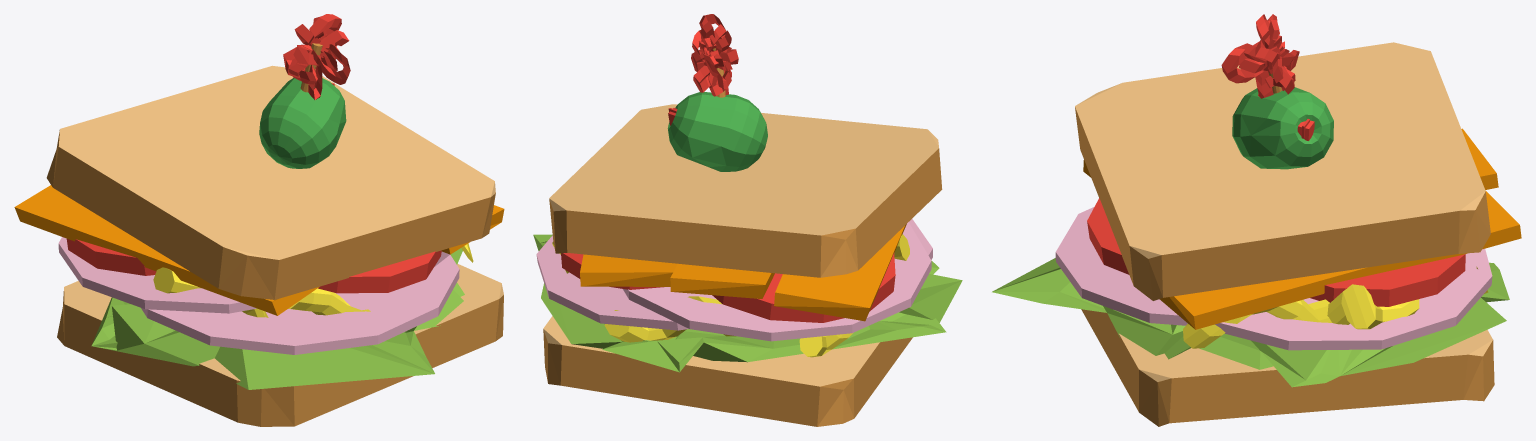
Rendered from Sandwich.obj.
3 renders of one model, left to right at view 1: azimuth 30°, elevation 25°; view 2: azimuth 150°, elevation 25°; view 3: azimuth 270°, elevation 25°, orthographic. The views are drawn at different scales.
Visible parts, largest first — view 1: group996315631, group493156083, group1652087668, group789604699, group2144504536, group163460802, group1245344889, group1219547458, group2115907108, group339363366, group1537758740, group962325714 (+2 smaller); view 2: group996315631, group493156083, group1652087668, group1245344889, group163460802, group2144504536, group2046653683, group1490762755, group1206853561, group2115907108, group339363366, group1634290142 (+2 smaller); view 3: group996315631, group493156083, group1652087668, group2046653683, group1206853561, group163460802, group789604699, group381778915, group1270557434, group2115907108, group1219547458, group799905980 (+2 smaller).
Part boxes in pixels (x1,y1,x2,y2): group996315631: [46, 65, 495, 299]; group493156083: [57, 264, 503, 426]; group1652087668: [91, 248, 464, 389]; group789604699: [141, 255, 459, 354]; group2144504536: [14, 185, 319, 315]; group163460802: [259, 78, 346, 168]; group1245344889: [58, 237, 256, 313]; group1219547458: [318, 250, 441, 293]; group2115907108: [283, 14, 349, 81]; group339363366: [66, 239, 156, 275]; group1537758740: [288, 288, 370, 315]; group962325714: [153, 267, 268, 317]; group996315631: [549, 104, 942, 277]; group493156083: [543, 316, 912, 426]; group1652087668: [533, 234, 962, 372]; group1245344889: [623, 222, 931, 341]; group163460802: [667, 92, 767, 171]; group2144504536: [774, 224, 906, 321]; group2046653683: [536, 235, 688, 330]; group1490762755: [670, 263, 774, 298]; group1206853561: [580, 254, 677, 286]; group2115907108: [691, 14, 738, 96]; group339363366: [712, 252, 895, 322]; group1634290142: [604, 296, 735, 342]; group996315631: [1075, 42, 1490, 300]; group493156083: [1081, 309, 1494, 426]; group1652087668: [992, 258, 1509, 387]; group2046653683: [1215, 248, 1492, 350]; group1206853561: [1159, 190, 1521, 329]; group163460802: [1232, 87, 1333, 169]; group789604699: [1055, 207, 1187, 325]; group381778915: [1183, 284, 1419, 348]; group1270557434: [1310, 254, 1465, 306]; group2115907108: [1255, 14, 1299, 94]; group1219547458: [1087, 198, 1129, 274]; group799905980: [1221, 41, 1266, 83].
Size of the model in its own units: 0.6628 by 0.5017 by 0.6853.
